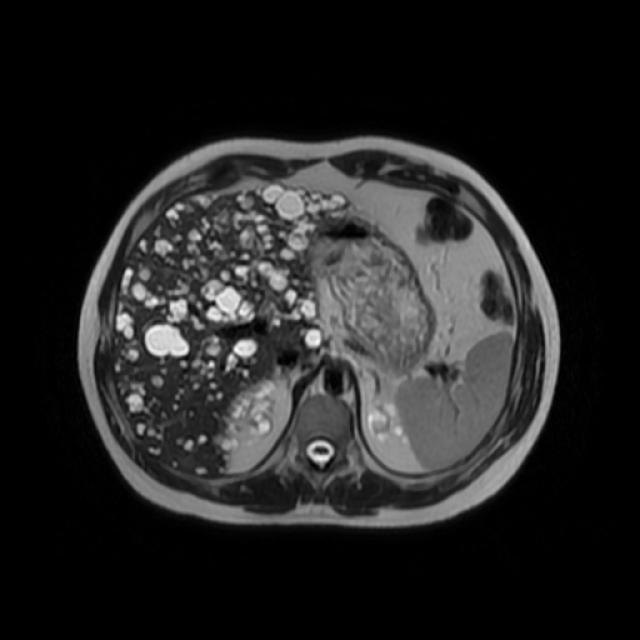sag: (222, 379, 278, 440)
sol: (366, 396, 414, 450)
